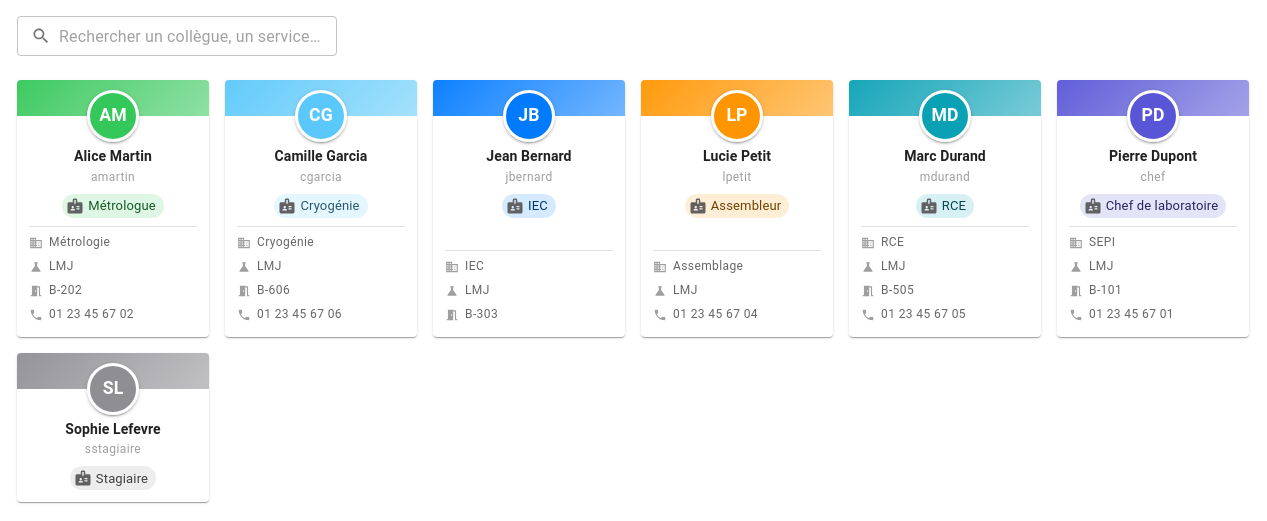
Scenario: EquipeAnnuairePage › affiche un état vide quand aucun membre ne correspond
expect the heading "Pierre Dupont" is shown: met, box x1=1109 y1=148 x2=1197 y2=164
Type "zzzzz-introuvable" into the element named "Rechercher un membre du personnel" at point(177, 36), box x1=17 y1=16 x2=337 y2=56
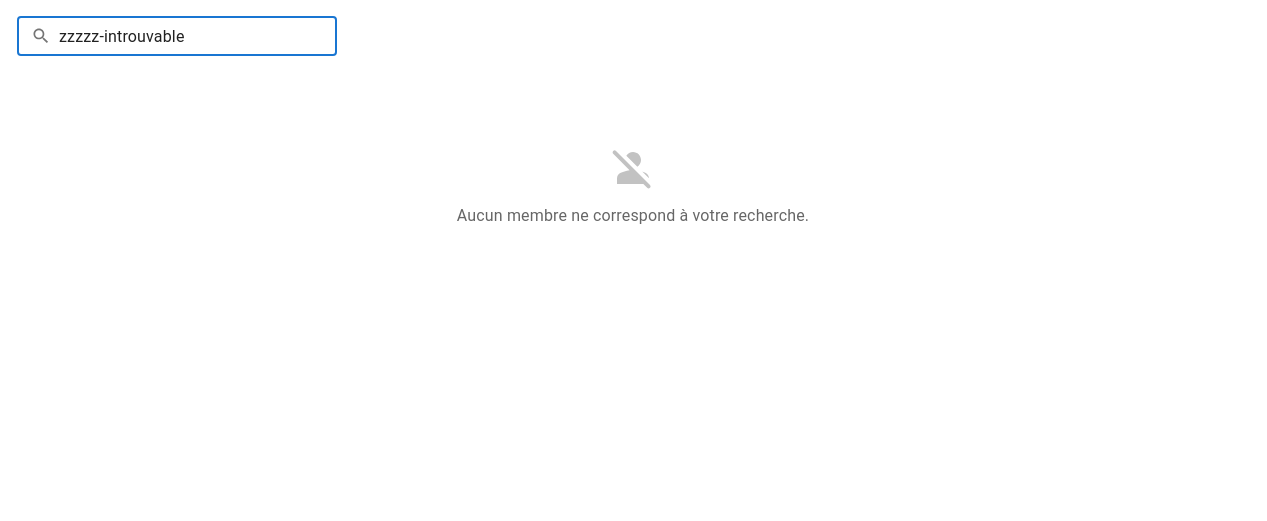
expect the text "Aucun membre ne correspond à votre recherche." is shown: met, box x1=457 y1=204 x2=809 y2=228
